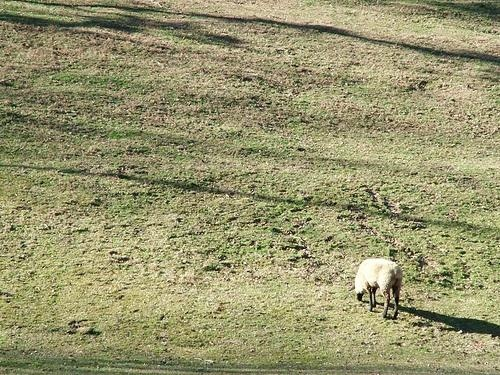sheep: (356, 259, 404, 322)
